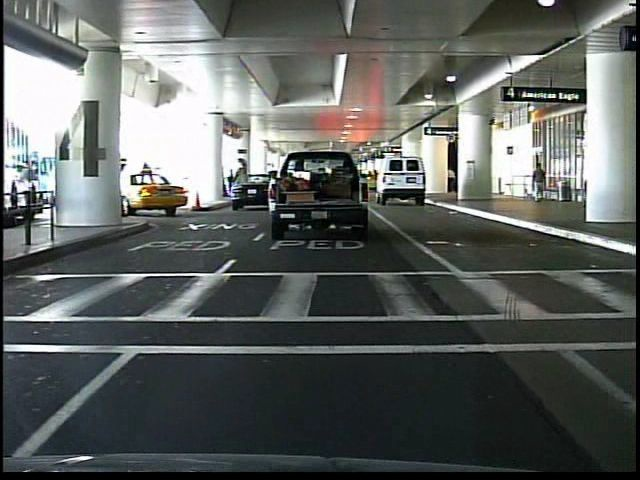person: (529, 157, 549, 208), (444, 165, 457, 198)
